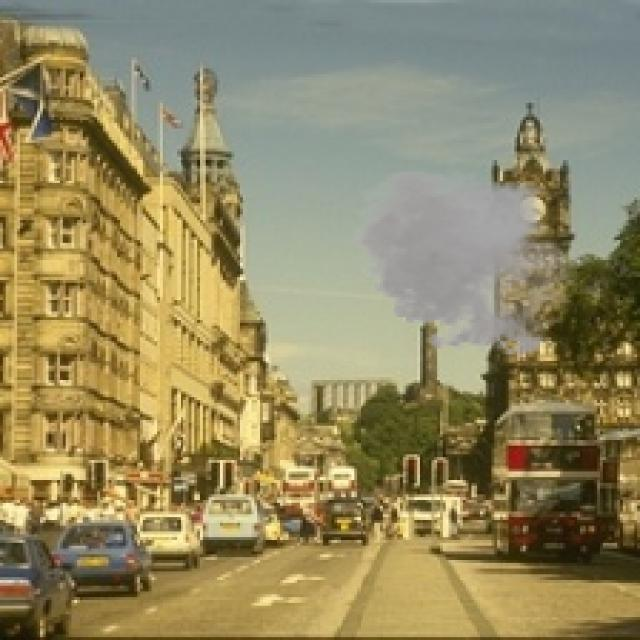smoke: (343, 163, 583, 363)
